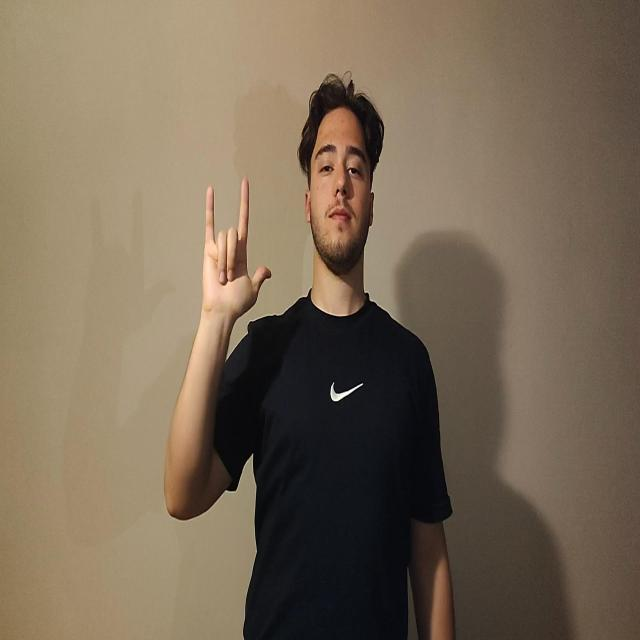iloveyou: (200, 177, 272, 326)
